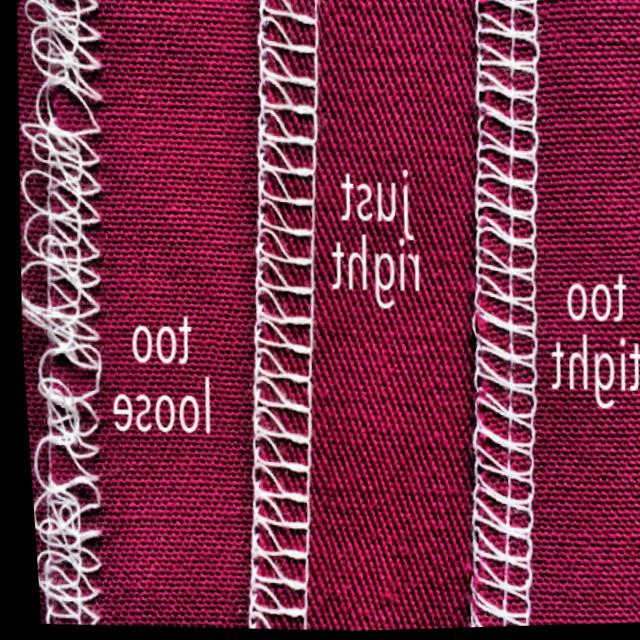Stitch: (2, 33, 143, 617)
